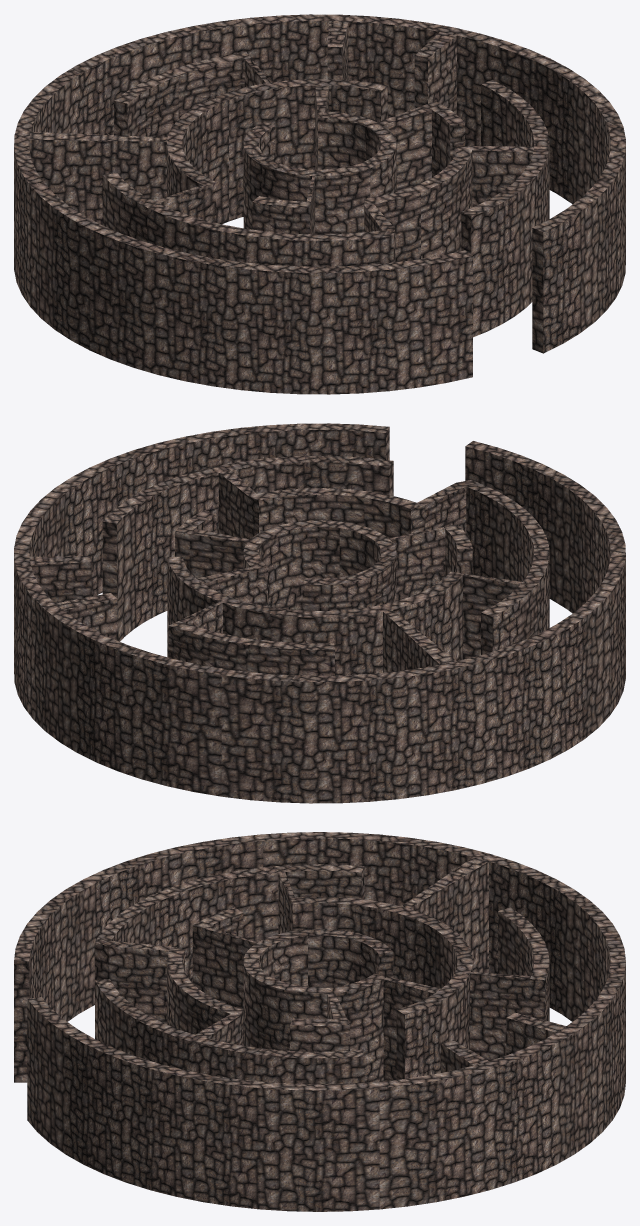
File: HardMaze_1.dae
3 renders of one model, top to bottom at view 1: azimuth 30°, elevation 25°; view 2: azimuth 150°, elevation 25°; view 3: azimuth 270°, elevation 25°, orthographic.
Visible parts, largest first — view 1: Plane; view 2: Plane; view 3: Plane.
Part boxes in pixels (box(x1,y1,x2,y2)): Plane: box(14, 14, 625, 394); Plane: box(14, 423, 625, 803); Plane: box(14, 832, 625, 1211).
Size of the model in its own units: 32 by 32 by 7.
